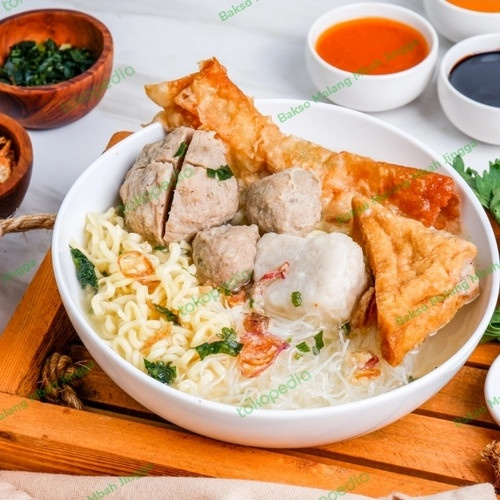bakso_malang: (72, 59, 483, 409)
